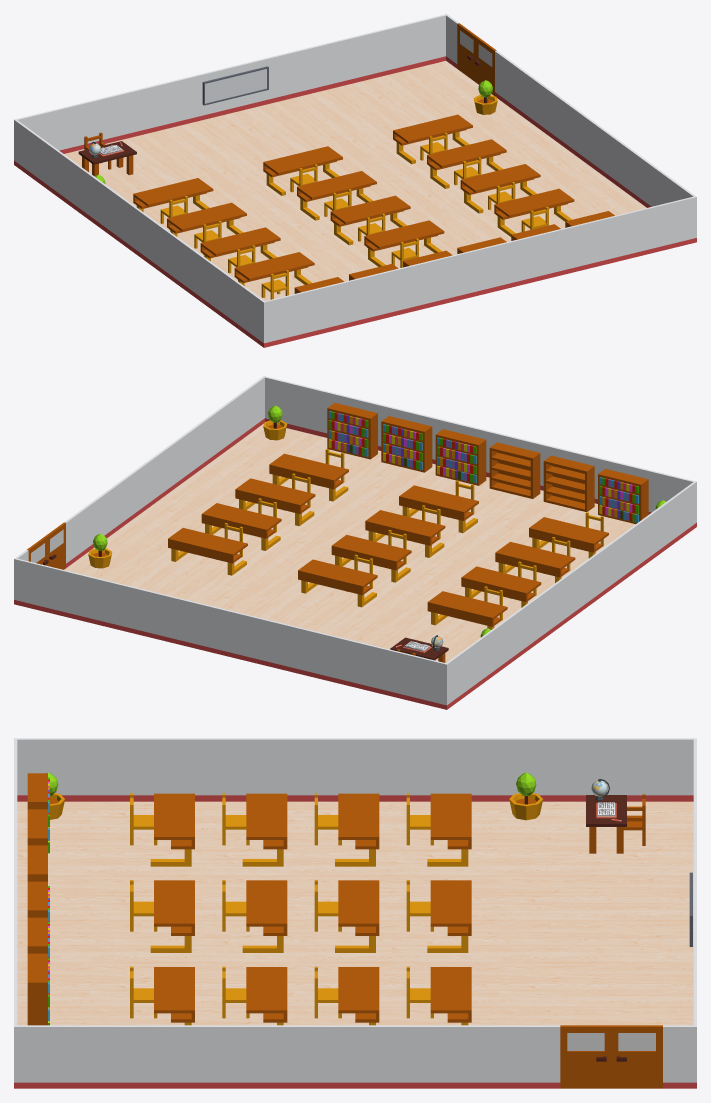
The model's file is 2_ClassRoom2.fbx.
3 views of the same model, one above another, from view 1: azimuth 30°, elevation 25°; view 2: azimuth 150°, elevation 25°; view 3: azimuth 270°, elevation 25° (orthographic). The views are drawn at different scales.
Parts seen in each view (by area): view 1: 1_Class1, 0_InnerGround.006, 0_Boards.001, 0_Chair&Table.026, 0_Chair&Table.019, 0_Chair&Table.021, 0_Chair&Table.020, 0_Chair&Table.024, 0_Chair&Table.025, 0_Chair&Table.023, 0_Chair&Table.017, 0_Chair&Table.013 (+7 smaller); view 2: 1_Class1, 0_InnerGround.006, 0_Shelf.011, 0_Shelf.012, 0_Shelf.014, 0_Shelf.013, 0_Shelf.015, 0_Shelf.010, 0_Chair&Table.026, 0_Chair&Table.021, 0_Chair&Table.025, 0_Chair&Table.019 (+12 smaller); view 3: 0_InnerGround.006, 1_Class1, 2_Door1Class, 2_Door1Class.009, 0_Chair&Table.016, 0_Chair&Table.013, 0_Chair&Table.015, 0_Chair&Table.021, 0_Chair&Table.019, 0_Chair&Table.020, 0_Chair&Table.012, 0_Chair&Table.017 (+22 smaller).
Part boxes in pixels (left/top/right/bottom): 1_Class1: left=14, top=14, right=696, bottom=347; 0_InnerGround.006: left=64, top=61, right=646, bottom=300; 0_Boards.001: left=202, top=66, right=268, bottom=105; 0_Chair&Table.026: left=393, top=114, right=472, bottom=164; 0_Chair&Table.019: left=330, top=195, right=410, bottom=245; 0_Chair&Table.021: left=263, top=146, right=342, bottom=195; 0_Chair&Table.020: left=297, top=171, right=376, bottom=220; 0_Chair&Table.024: left=460, top=164, right=540, bottom=213; 0_Chair&Table.025: left=427, top=139, right=506, bottom=188; 0_Chair&Table.023: left=494, top=188, right=574, bottom=236; 0_Chair&Table.017: left=364, top=220, right=444, bottom=266; 0_Chair&Table.013: left=200, top=227, right=280, bottom=261; 1_Class1: left=14, top=376, right=696, bottom=709; 0_InnerGround.006: left=64, top=423, right=635, bottom=662; 0_Shelf.011: left=543, top=455, right=594, bottom=511; 0_Shelf.012: left=489, top=442, right=540, bottom=498; 0_Shelf.014: left=381, top=416, right=432, bottom=472; 0_Shelf.013: left=435, top=429, right=486, bottom=485; 0_Shelf.015: left=327, top=403, right=377, bottom=459; 0_Shelf.010: left=598, top=469, right=648, bottom=524; 0_Chair&Table.026: left=168, top=528, right=247, bottom=575; 0_Chair&Table.021: left=298, top=559, right=377, bottom=607; 0_Chair&Table.025: left=201, top=503, right=281, bottom=550; 0_Chair&Table.019: left=365, top=510, right=445, bottom=557; 0_InnerGround.006: left=17, top=801, right=693, bottom=1025; 1_Class1: left=14, top=738, right=696, bottom=1088; 2_Door1Class: left=611, top=1025, right=662, bottom=1088; 2_Door1Class.009: left=560, top=1025, right=611, bottom=1088; 0_Chair&Table.016: left=427, top=793, right=471, bottom=866; 0_Chair&Table.013: left=242, top=793, right=287, bottom=866; 0_Chair&Table.015: left=335, top=793, right=379, bottom=866; 0_Chair&Table.021: left=427, top=880, right=471, bottom=952; 0_Chair&Table.019: left=242, top=880, right=287, bottom=952; 0_Chair&Table.020: left=335, top=880, right=379, bottom=952; 0_Chair&Table.012: left=150, top=793, right=194, bottom=866; 0_Chair&Table.017: left=150, top=880, right=194, bottom=952.
Size of the model in its own units: 2000 by 2015 by 200.
